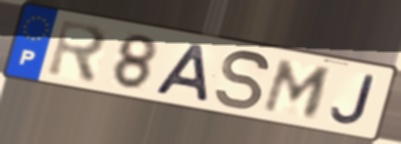8: (111, 33, 161, 91)
A: (150, 42, 212, 104)
J: (328, 73, 377, 127)
M: (259, 57, 336, 121)
R: (45, 17, 110, 87)
S: (213, 48, 273, 113)
